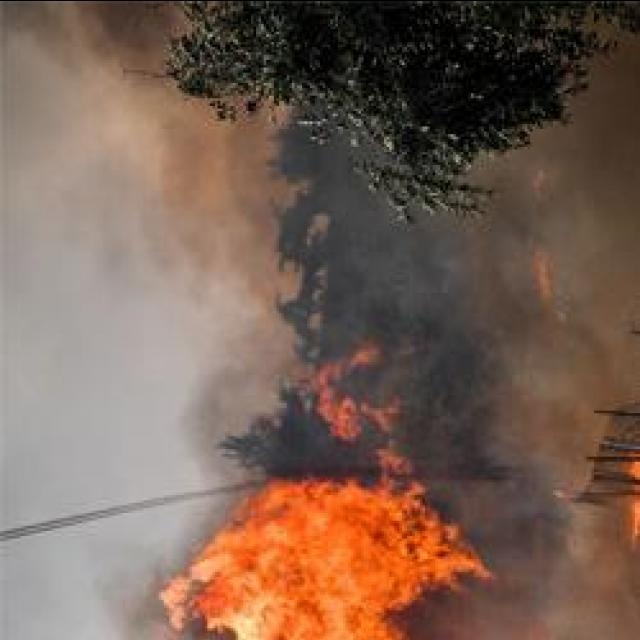fire: (242, 496, 398, 638)
smoke: (148, 120, 282, 264), (555, 132, 640, 338), (512, 512, 640, 640), (2, 0, 156, 82), (501, 337, 598, 463), (166, 362, 262, 442)
